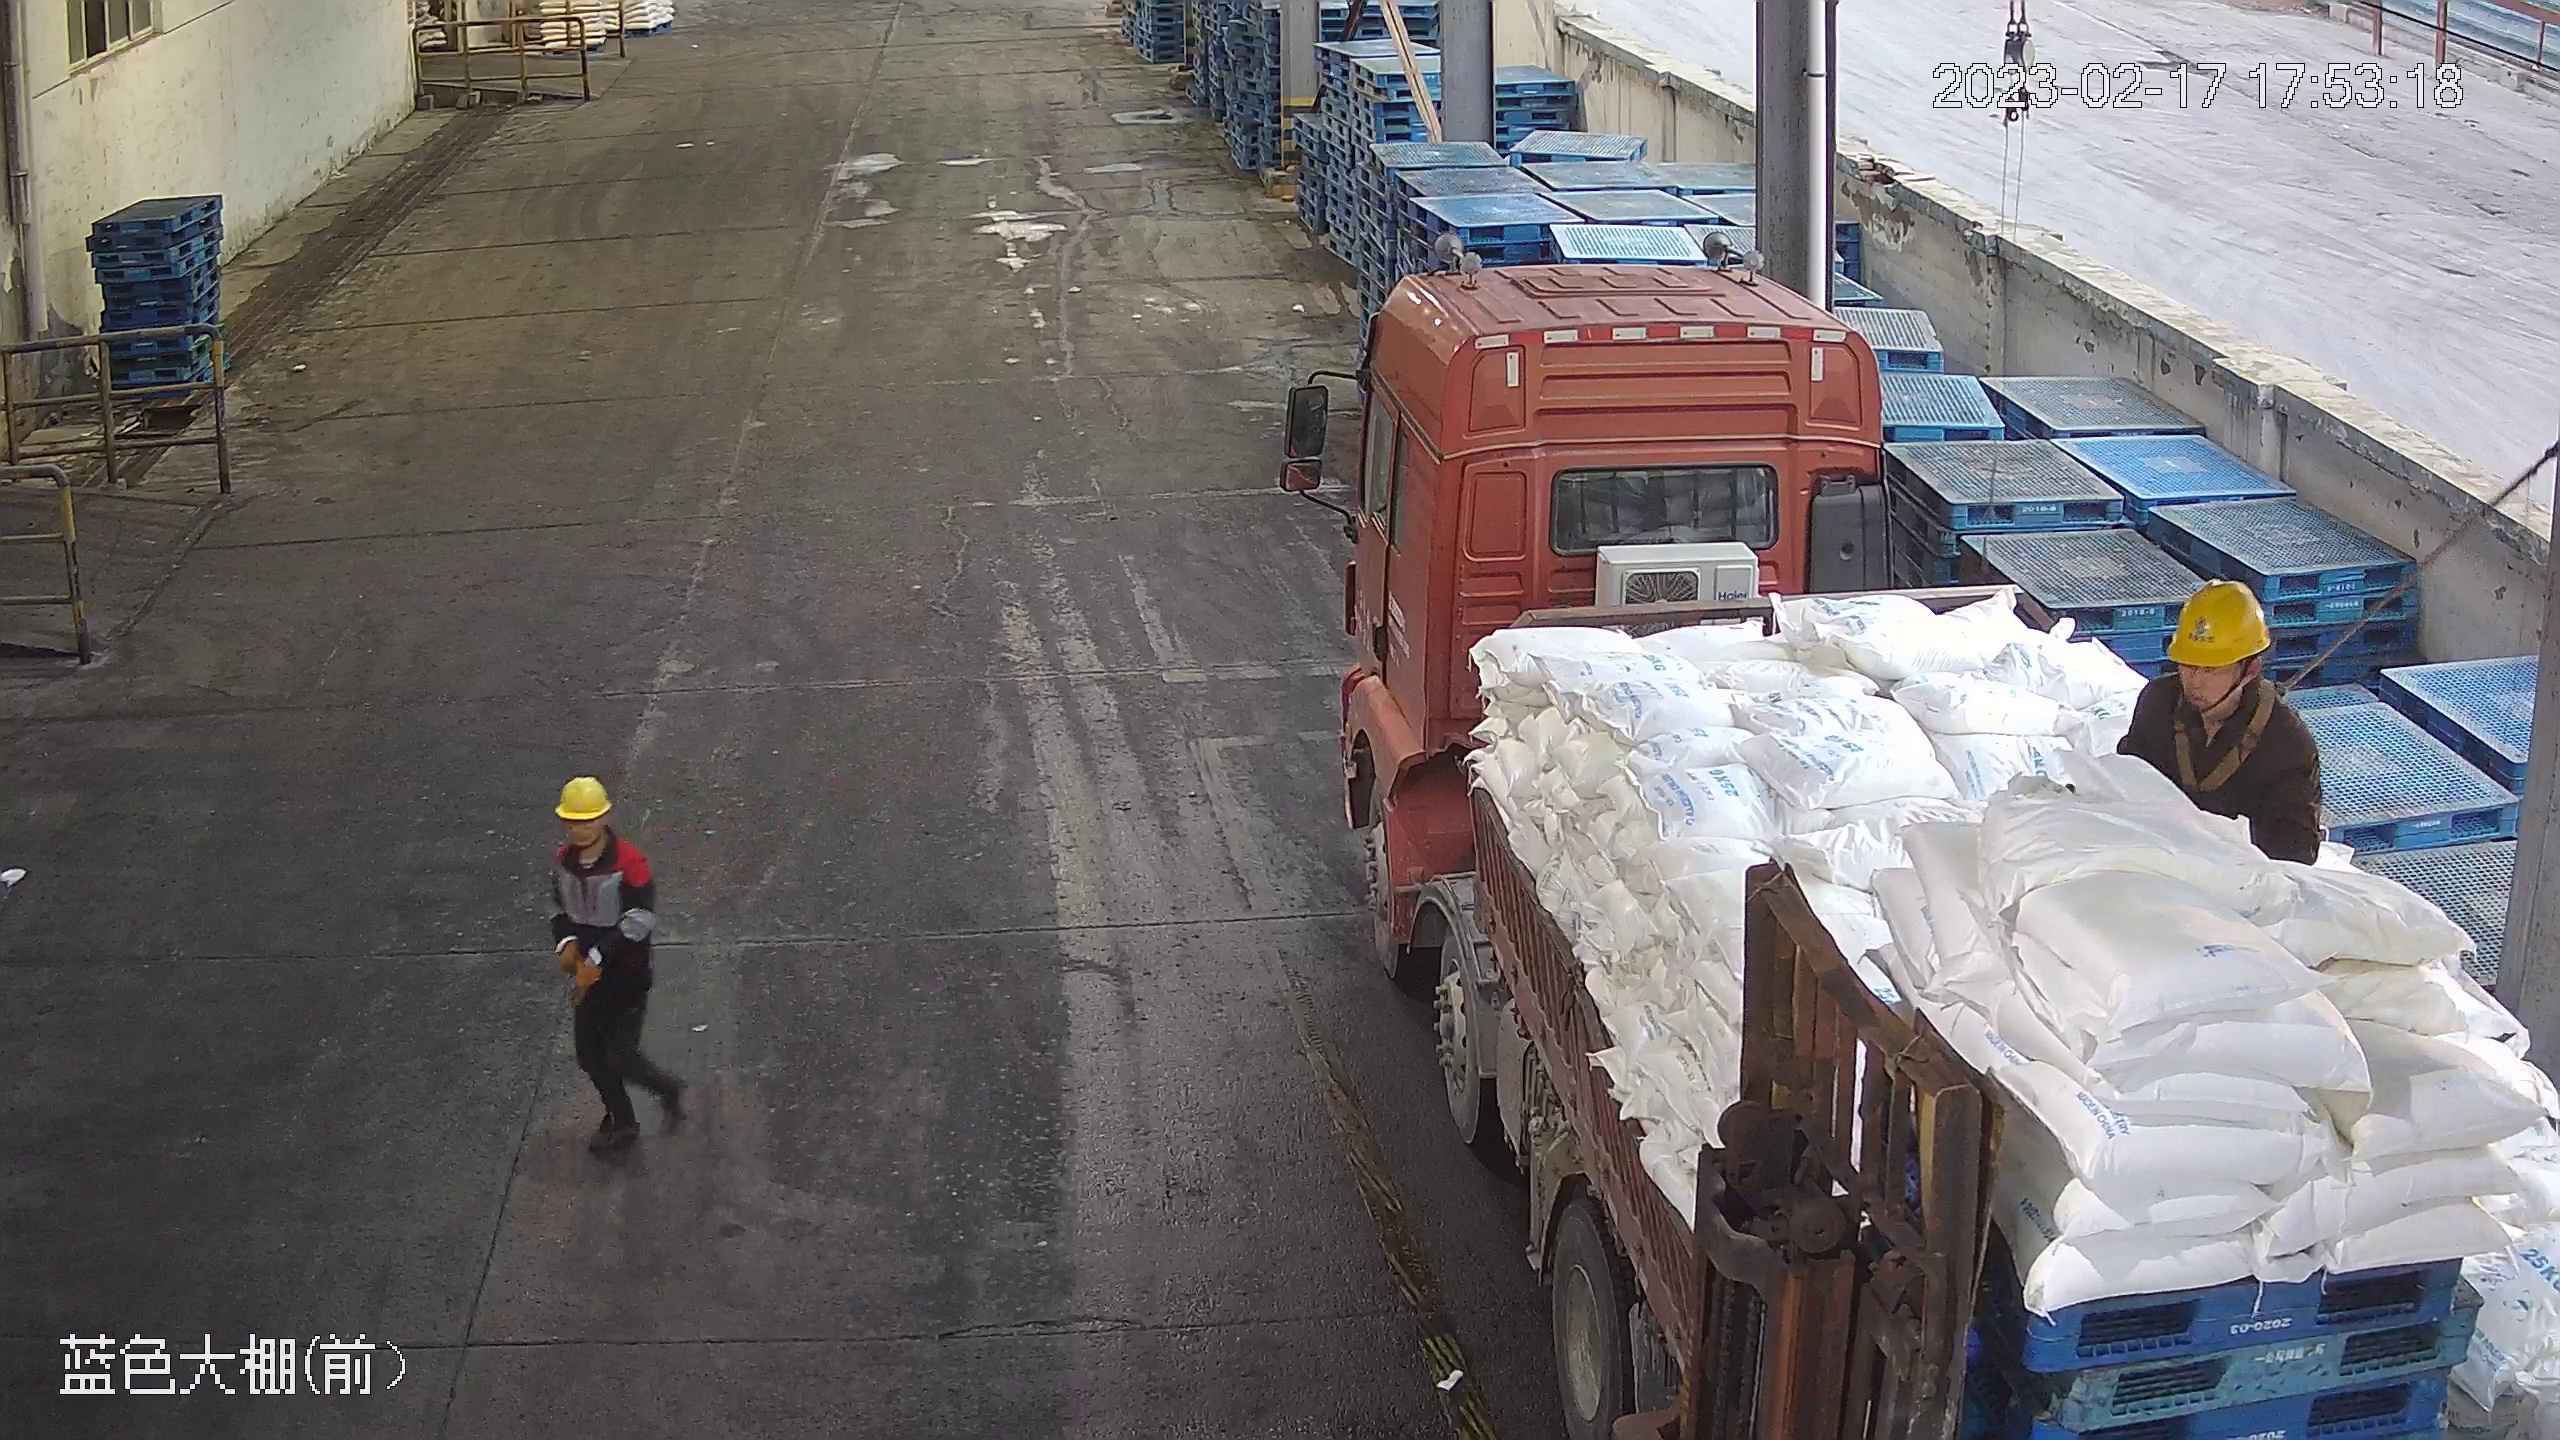belt: (2160, 678, 2305, 796)
head: (2132, 577, 2315, 755), (543, 775, 653, 902)
helmet: (2163, 577, 2269, 666), (550, 773, 612, 823)
people: (543, 771, 692, 1167)
truck: (1278, 233, 2560, 1440)
